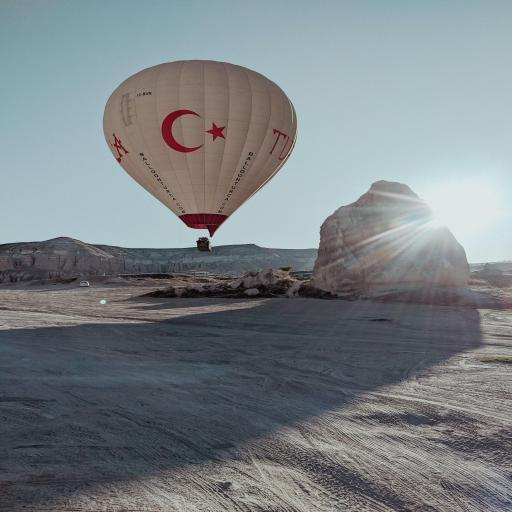hot air ballon: (102, 59, 300, 253)
